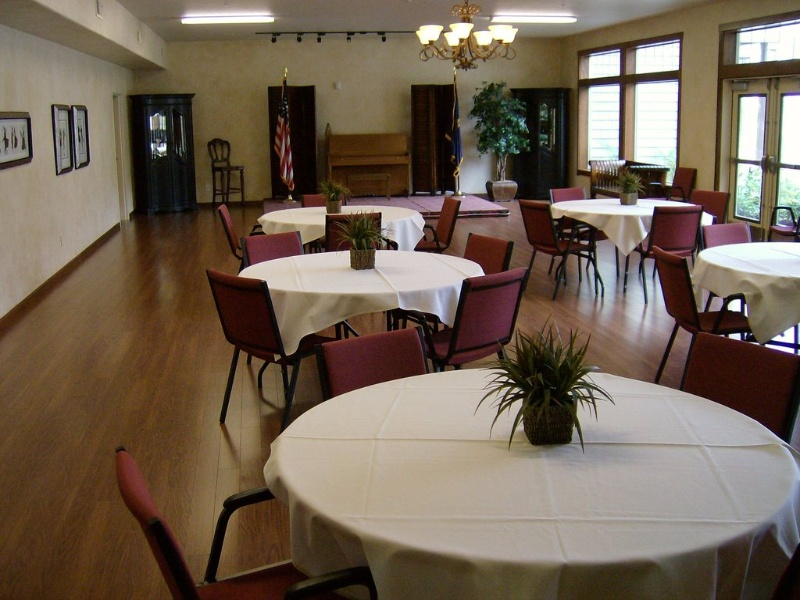chair: (198, 265, 315, 420), (202, 134, 252, 212)
dining table: (269, 364, 792, 600), (241, 239, 486, 345), (550, 188, 707, 281)
